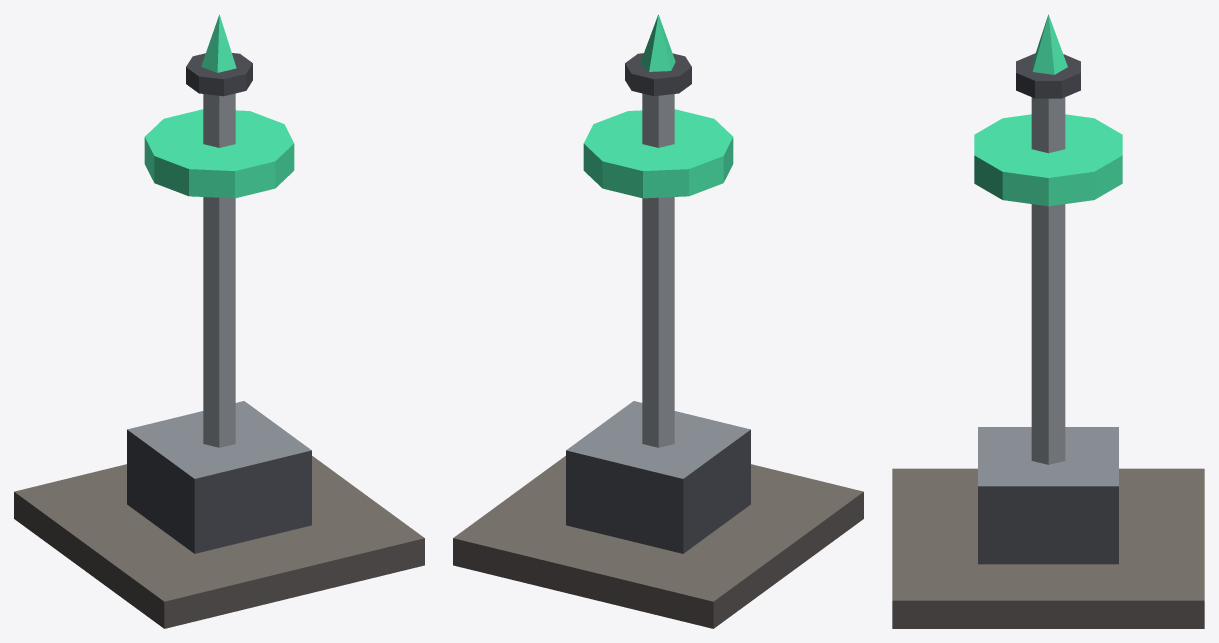
File: small_hub.obj
3 renders of one model, left to right at view 1: azimuth 30°, elevation 25°; view 2: azimuth 150°, elevation 25°; view 3: azimuth 270°, elevation 25°, orthographic. The views are drawn at different scales.
Size of the model in its own units: 0.8 by 1.55 by 0.8.
